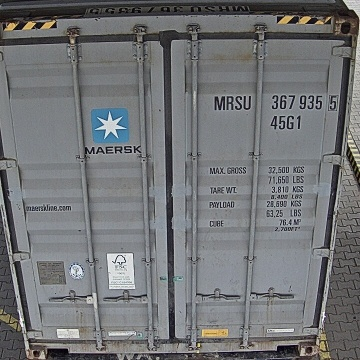serial_id: (214, 94, 338, 110)
